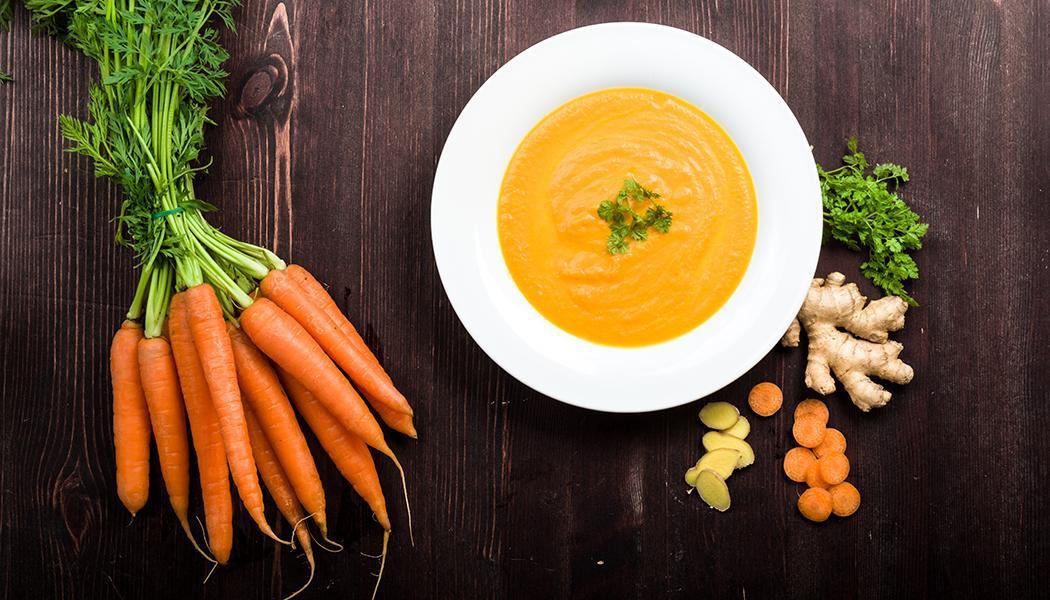carrot: (159, 284, 408, 554), (110, 315, 197, 548)
